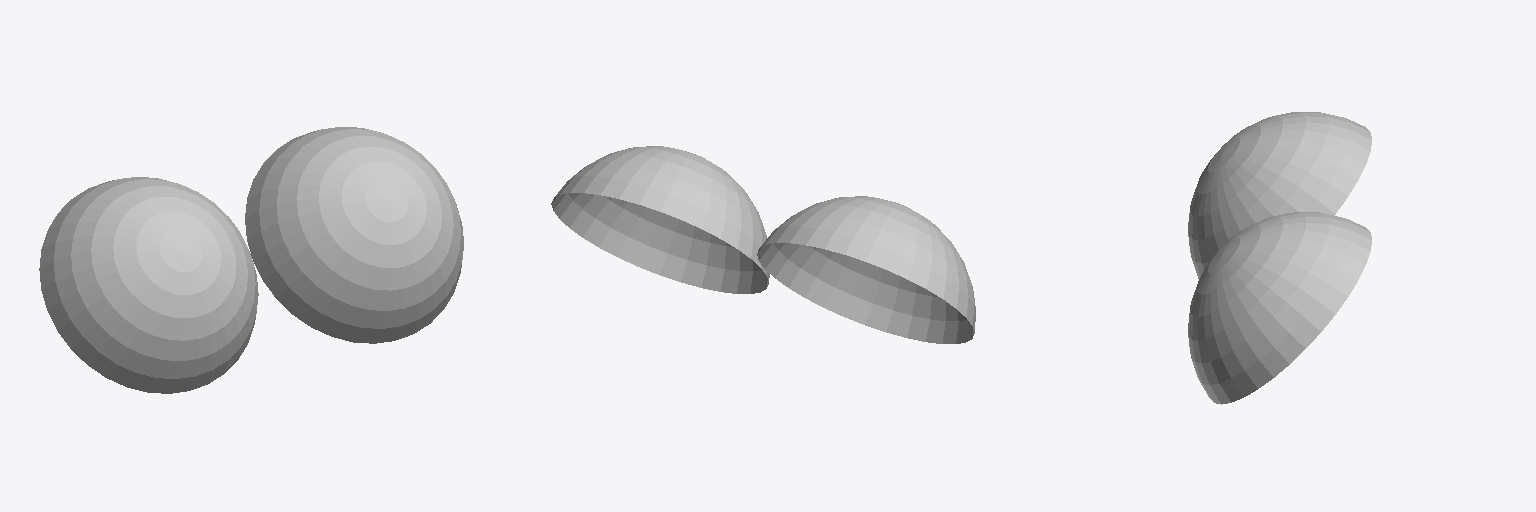
The model's file is ogonlock.obj.
The picture shows the model from 3 angles: view 1: azimuth 30°, elevation 25°; view 2: azimuth 150°, elevation 25°; view 3: azimuth 270°, elevation 25°; orthographic projection.
Visible parts, largest first — view 1: ogonlock.001_Sphere.004, ogonlock_Sphere.004; view 2: ogonlock_Sphere.004, ogonlock.001_Sphere.004; view 3: ogonlock.001_Sphere.004, ogonlock_Sphere.004.
Boxes of the visible parts, box(x1,y1,x2,y2) form: ogonlock.001_Sphere.004: box(245, 127, 463, 343); ogonlock_Sphere.004: box(39, 177, 258, 393); ogonlock_Sphere.004: box(757, 196, 975, 343); ogonlock.001_Sphere.004: box(551, 146, 769, 293); ogonlock.001_Sphere.004: box(1188, 212, 1371, 404); ogonlock_Sphere.004: box(1188, 112, 1371, 278).
Size of the model in its own units: 0.7923 by 0.3111 by 0.3111.